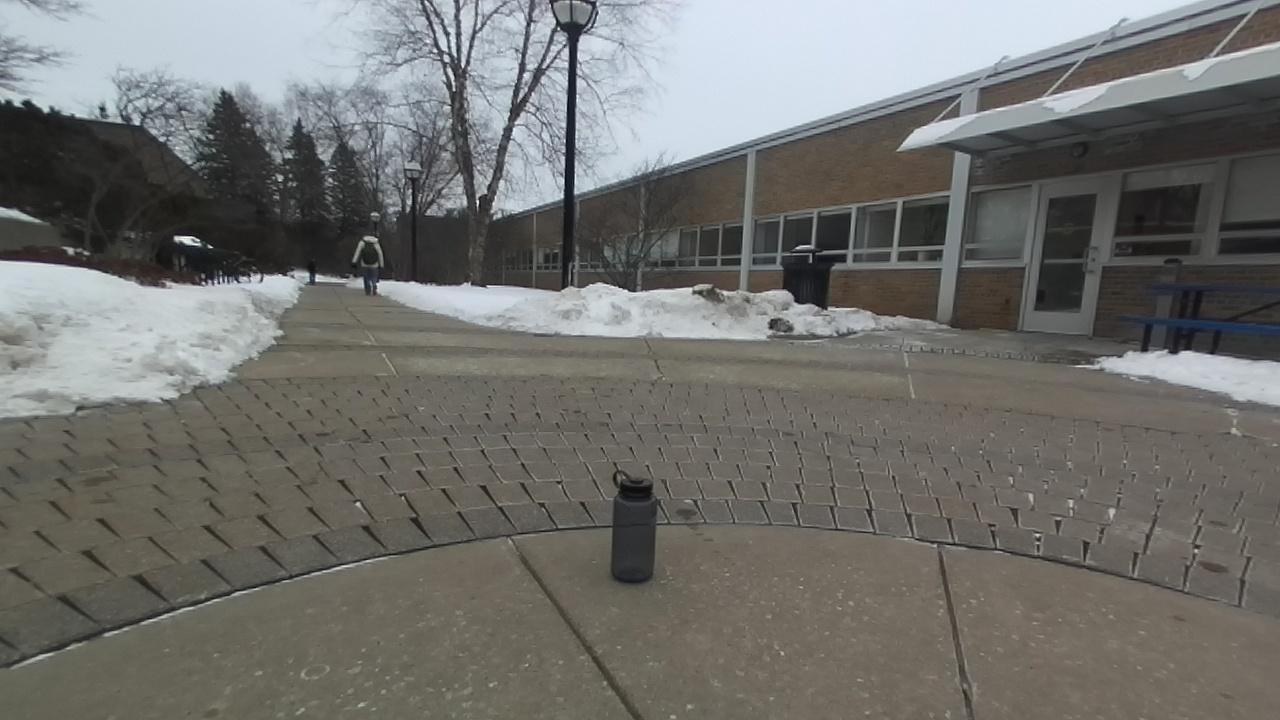bottle: (611, 470, 657, 582)
